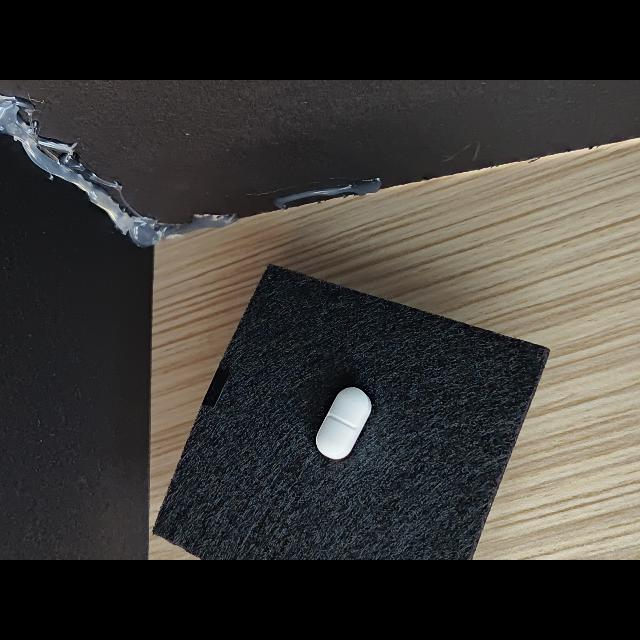Intact Pill: (316, 387, 372, 459)
